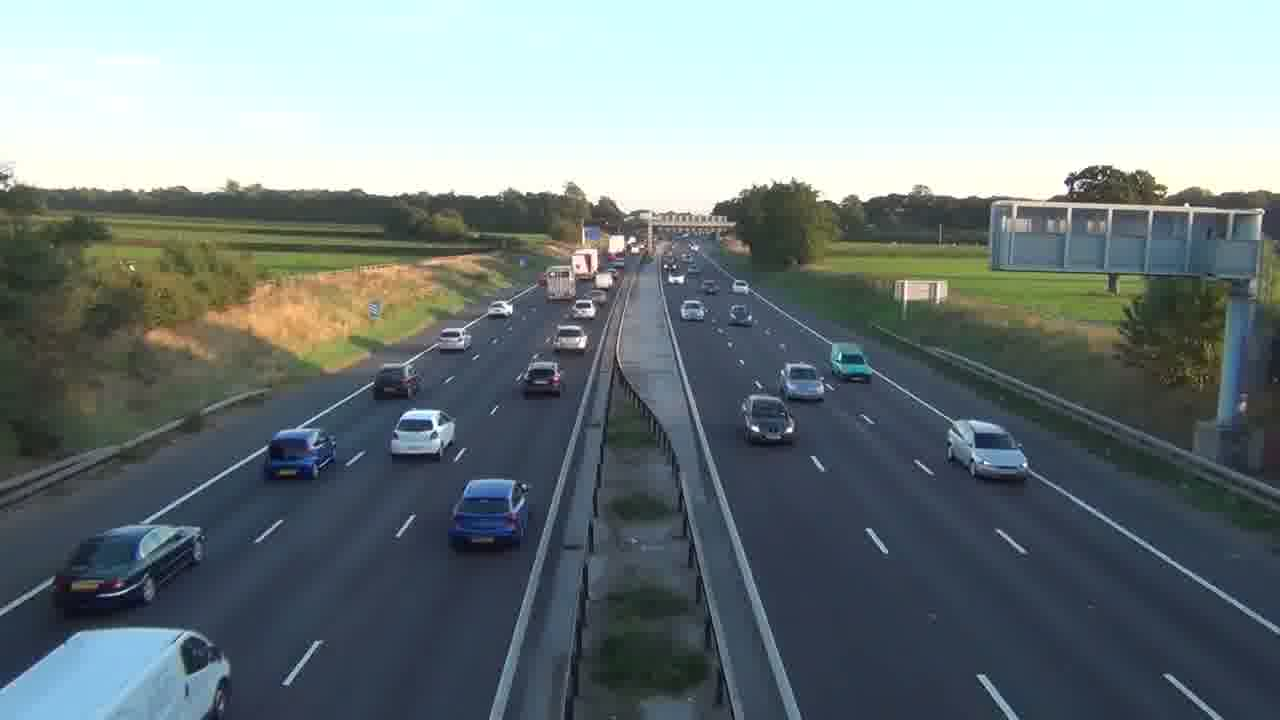car: (0, 625, 232, 718), (52, 523, 207, 619), (447, 477, 530, 551), (945, 418, 1029, 482), (263, 428, 337, 480), (389, 408, 456, 457), (741, 394, 797, 445), (778, 361, 828, 403), (372, 365, 419, 400), (523, 361, 563, 398), (555, 324, 587, 351)
